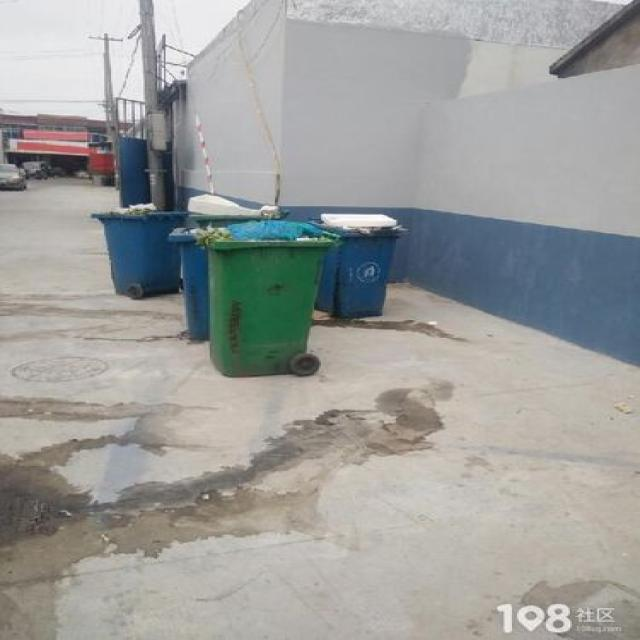overflow: (202, 218, 334, 378), (318, 211, 404, 316), (90, 202, 181, 296)
